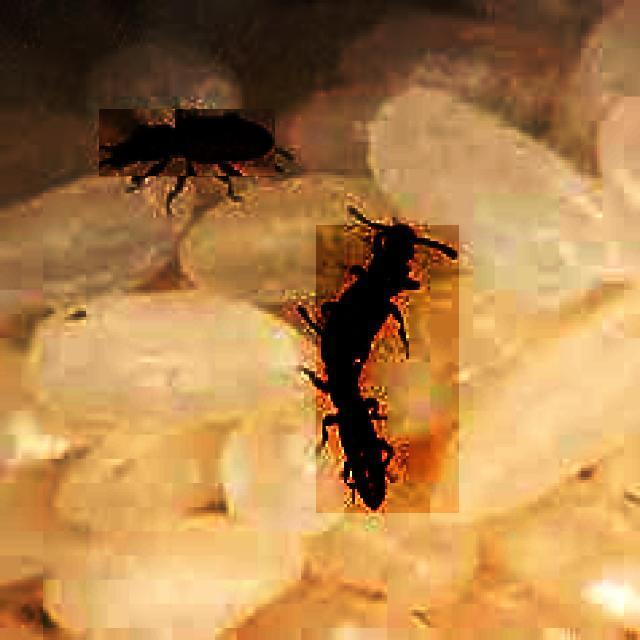rice-bug: (316, 226, 459, 513), (99, 110, 275, 178)
